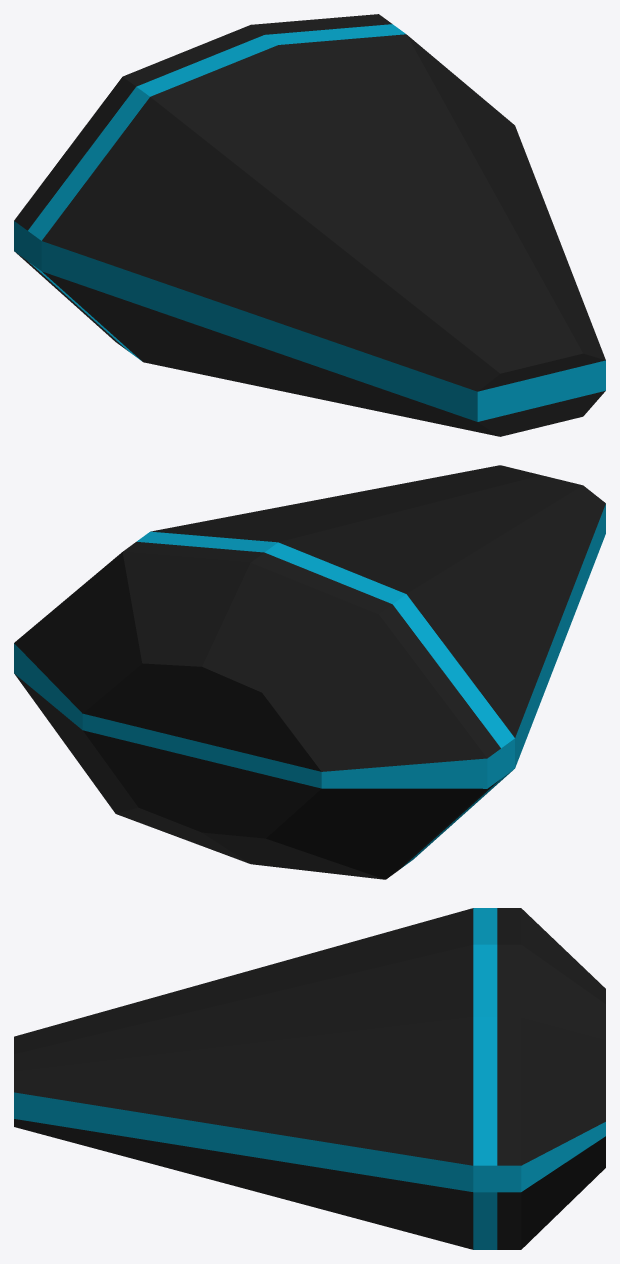
File: player_melee_pod.obj
The picture shows the model from 3 angles, top to bottom: view 1: azimuth 30°, elevation 25°; view 2: azimuth 150°, elevation 25°; view 3: azimuth 270°, elevation 25°; orthographic projection. The views are drawn at different scales.
Parts seen in each view (by area): view 1: Cube_Cube.001; view 2: Cube_Cube.001; view 3: Cube_Cube.001.
Boxes of the visible parts, box(x1,y1,x2,y2) form: Cube_Cube.001: box(14, 14, 605, 436); Cube_Cube.001: box(14, 465, 605, 879); Cube_Cube.001: box(14, 908, 605, 1249).
Size of the model in its own units: 0.9857 by 0.6001 by 1.22.
